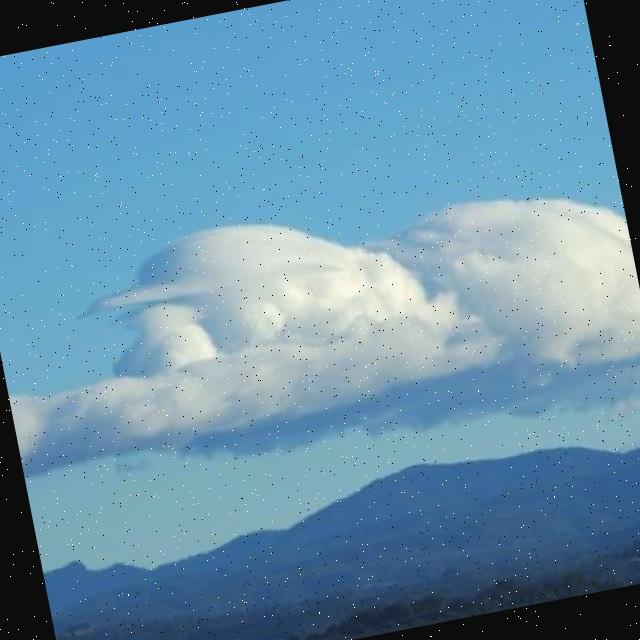Cu: (1, 141, 640, 535)
